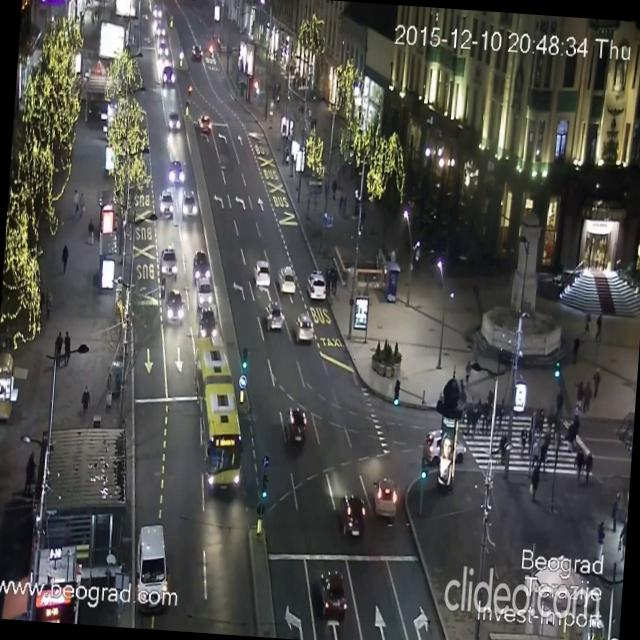bus: (186, 332, 253, 492)
car: (134, 522, 173, 609), (316, 568, 349, 620), (423, 428, 466, 467), (369, 475, 398, 523), (336, 492, 366, 538), (284, 404, 307, 444), (306, 269, 329, 303), (292, 312, 315, 344), (198, 302, 218, 338), (162, 290, 182, 326), (264, 302, 286, 332), (250, 258, 272, 286), (160, 246, 178, 279), (180, 187, 198, 220), (192, 251, 211, 282), (157, 188, 174, 220), (276, 266, 296, 292), (168, 160, 186, 183), (198, 282, 215, 306), (162, 63, 177, 89), (167, 108, 180, 134), (196, 112, 211, 133), (189, 41, 204, 62), (155, 18, 167, 36), (157, 44, 170, 60), (152, 2, 162, 22)
